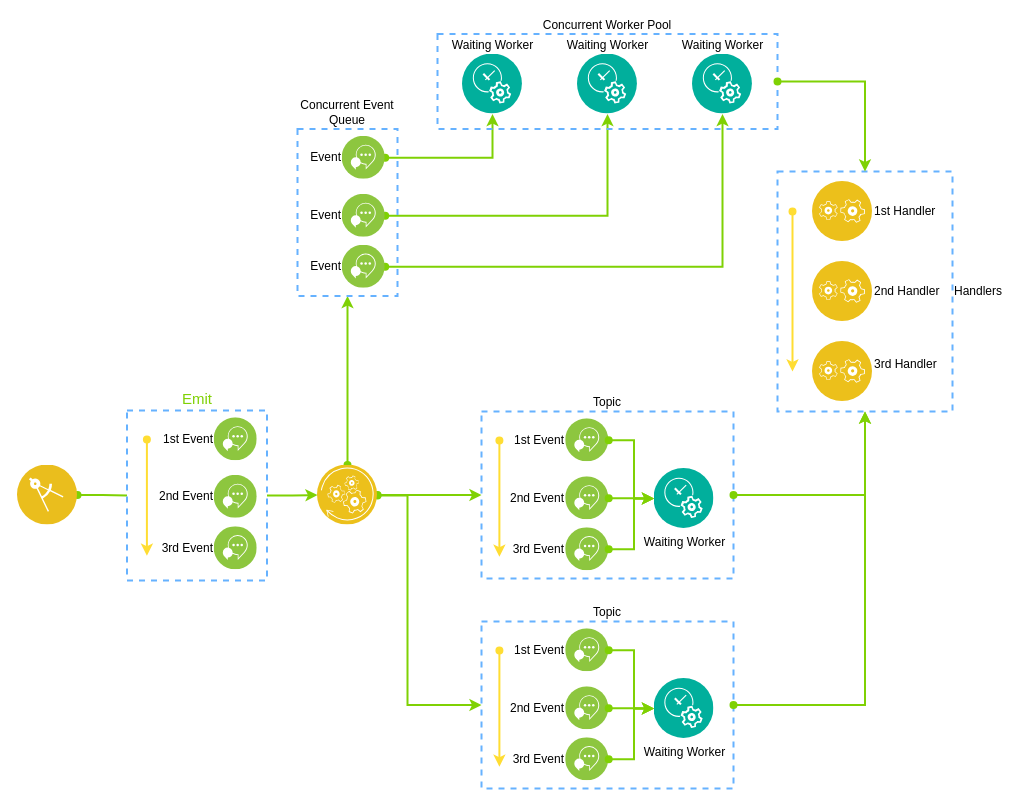
Some shapes in this 1019 by 807 pixel diagram are drawn without their labels. Each missing label, with the centre of its shape:
Application: pixel 47 494
Bus: pixel 347 494
